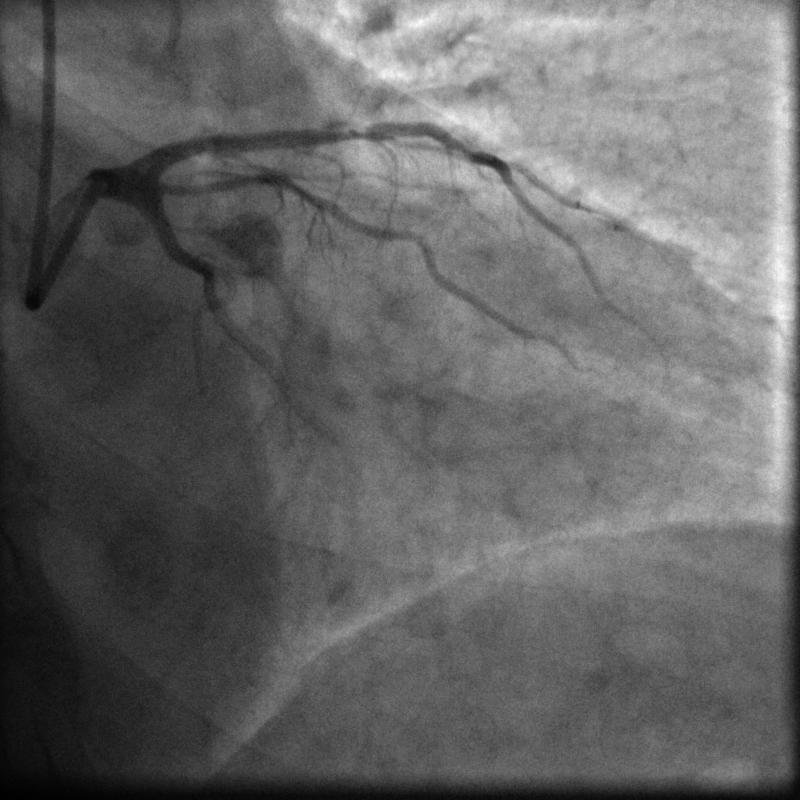Stenosis: (319, 122, 386, 146)
